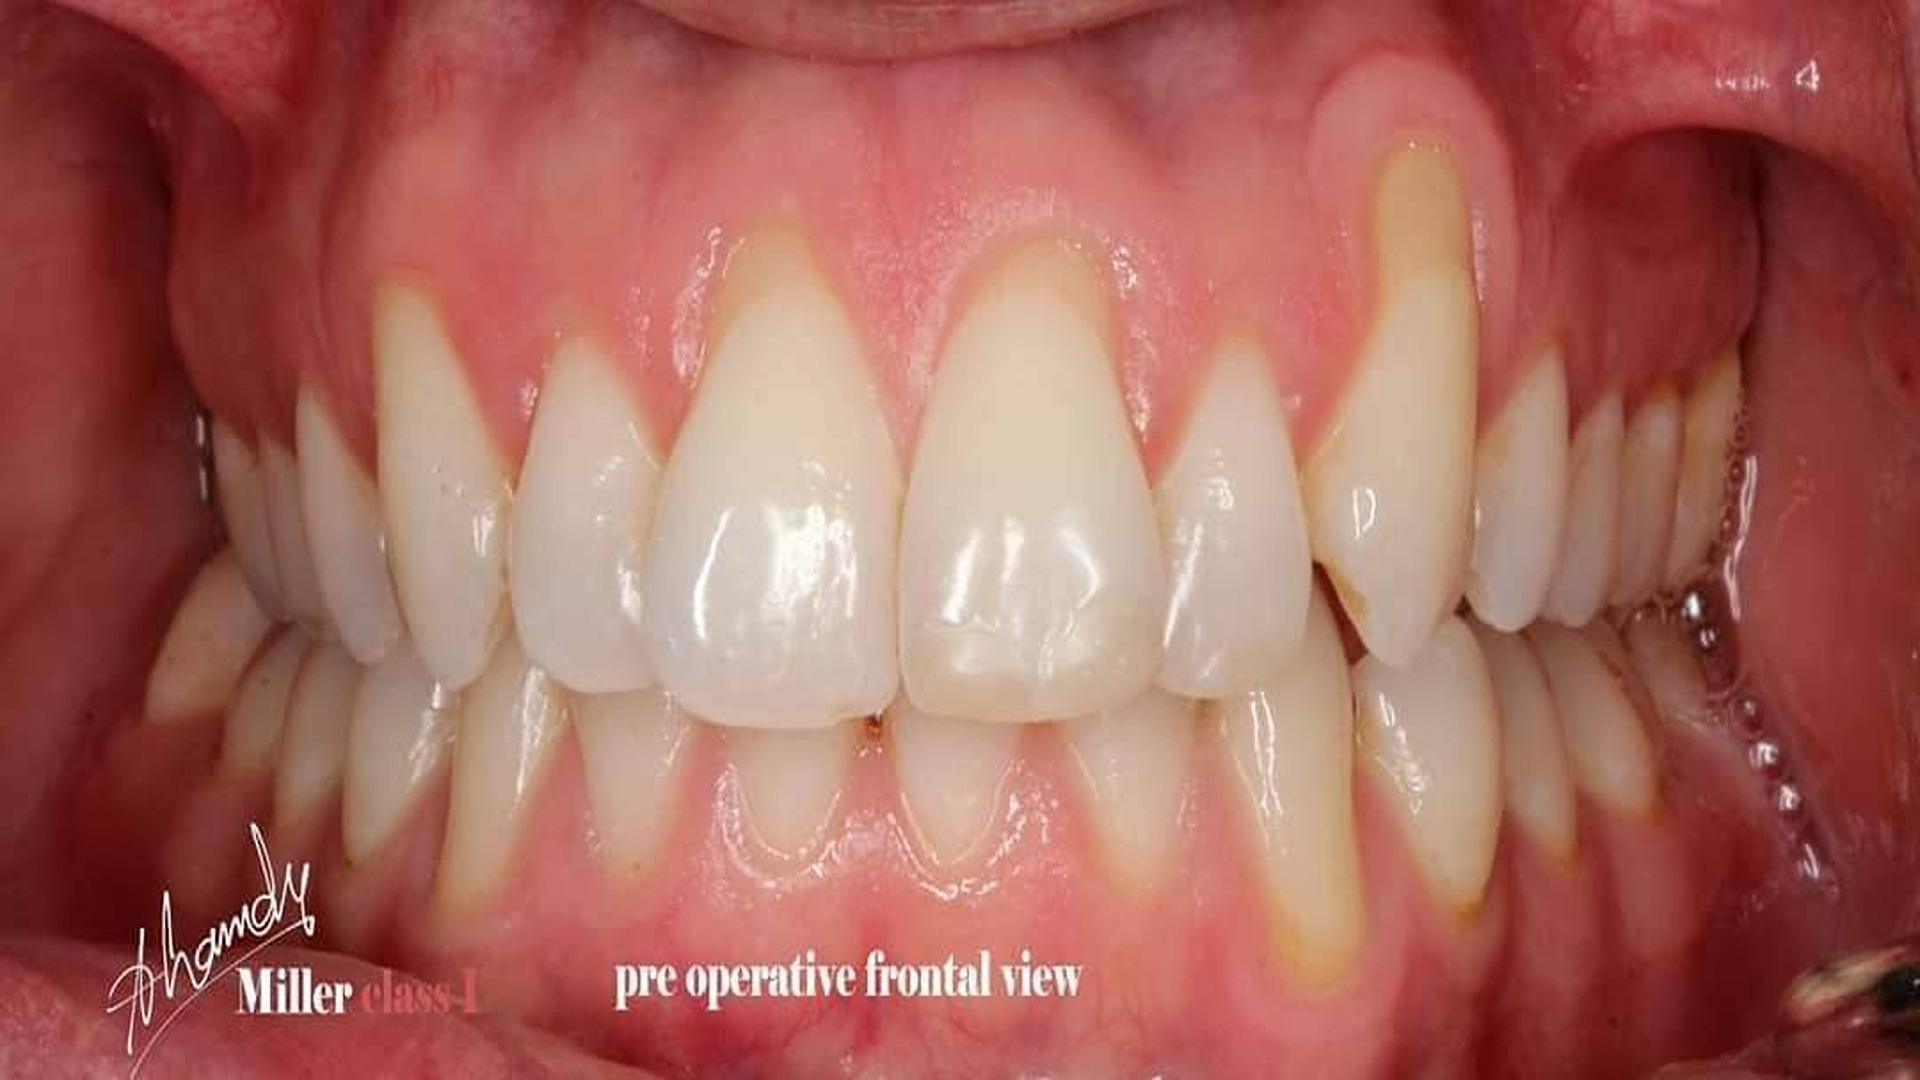tooth: (898, 228, 1171, 723), (640, 224, 905, 729), (1304, 138, 1480, 669), (373, 266, 512, 690), (1155, 328, 1312, 698), (1218, 617, 1367, 1000), (509, 338, 663, 694), (1352, 617, 1505, 914), (433, 646, 562, 916), (1064, 687, 1224, 899), (1457, 603, 1578, 858), (295, 380, 401, 667), (1465, 342, 1569, 632), (1522, 618, 1665, 814), (882, 682, 1023, 874), (342, 634, 456, 865), (566, 688, 694, 878), (723, 721, 855, 876), (1542, 390, 1625, 628), (262, 436, 327, 637)
